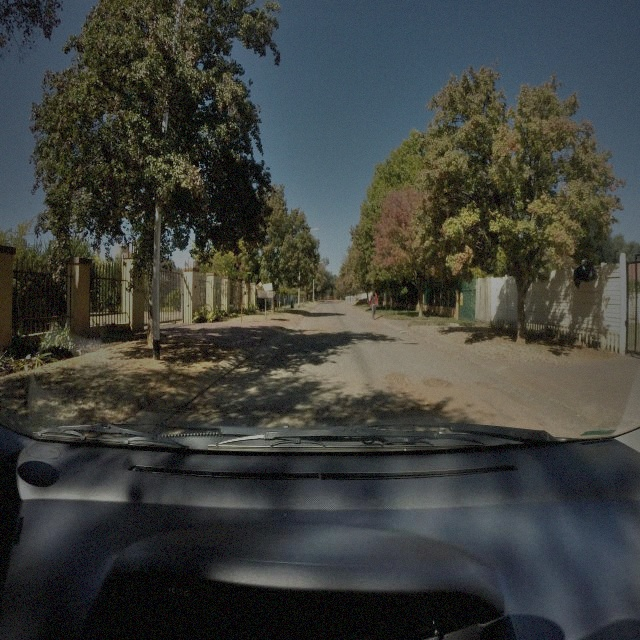pothole: (422, 376, 455, 390), (385, 371, 412, 388)
